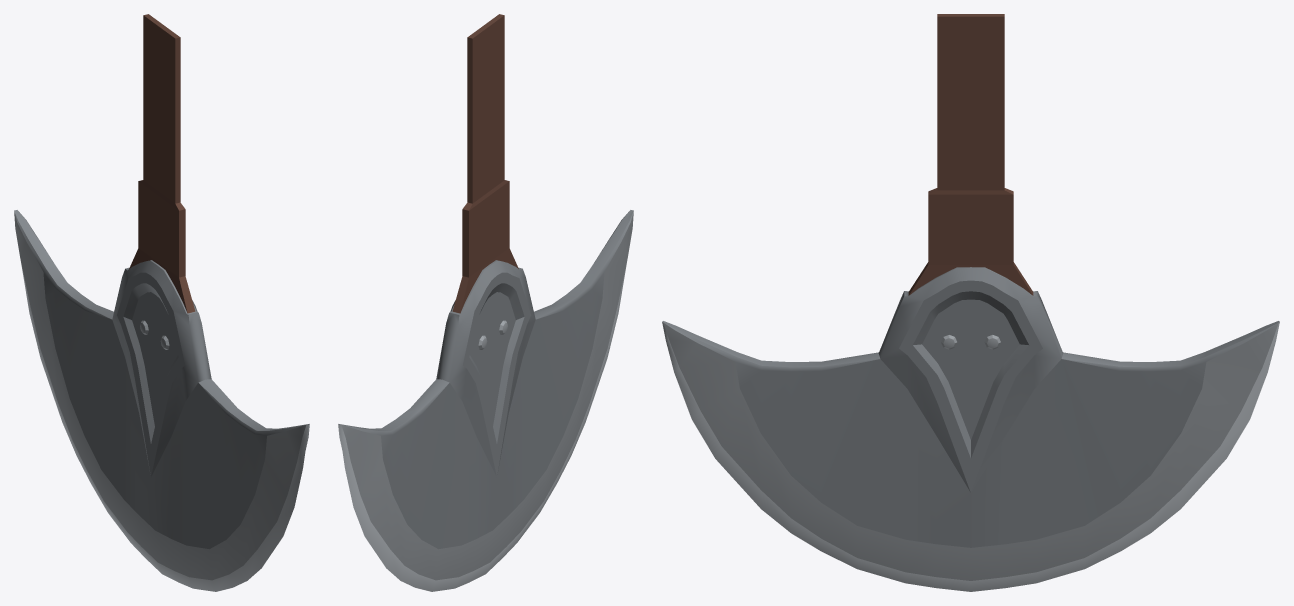
Rendered from axe_test.fbx.
3 renders of one model, left to right at view 1: azimuth 30°, elevation 25°; view 2: azimuth 150°, elevation 25°; view 3: azimuth 270°, elevation 25°, orthographic. The views are drawn at different scales.
Parts seen in each view (by area): view 1: axe; view 2: axe; view 3: axe.
Boxes of the visible parts, <box> form: axe: <box>14,14,309,591</box>; axe: <box>338,14,633,591</box>; axe: <box>662,14,1279,591</box>.
Bounding box in the file's own units: 29.11 × 693 × 673.
